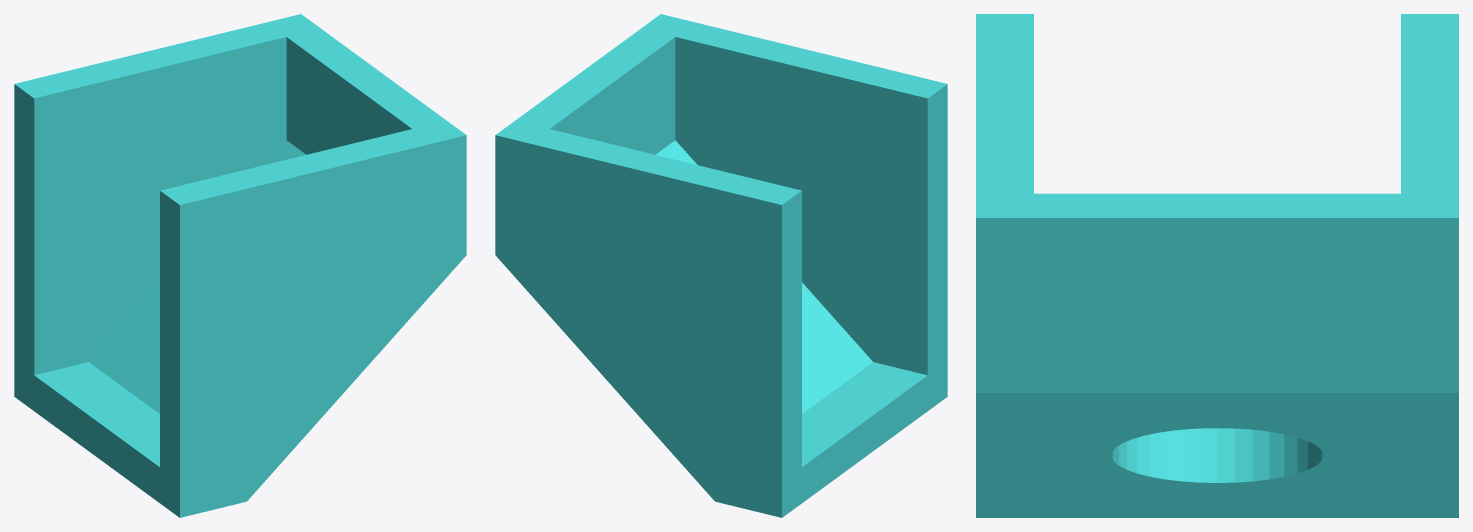
Rendered from motor_mount.dae.
The picture shows the model from 3 angles, left to right: view 1: azimuth 30°, elevation 25°; view 2: azimuth 150°, elevation 25°; view 3: azimuth 270°, elevation 25°; orthographic projection. The views are drawn at different scales.
Visible parts, largest first — view 1: motor_mount; view 2: motor_mount; view 3: motor_mount.
Boxes of the visible parts, x1,y1,x2,y2 form: motor_mount: [14, 14, 466, 517]; motor_mount: [495, 14, 947, 517]; motor_mount: [976, 14, 1458, 517].
Bounding box in the file's own units: 0.05 × 0.05 × 0.0521.
